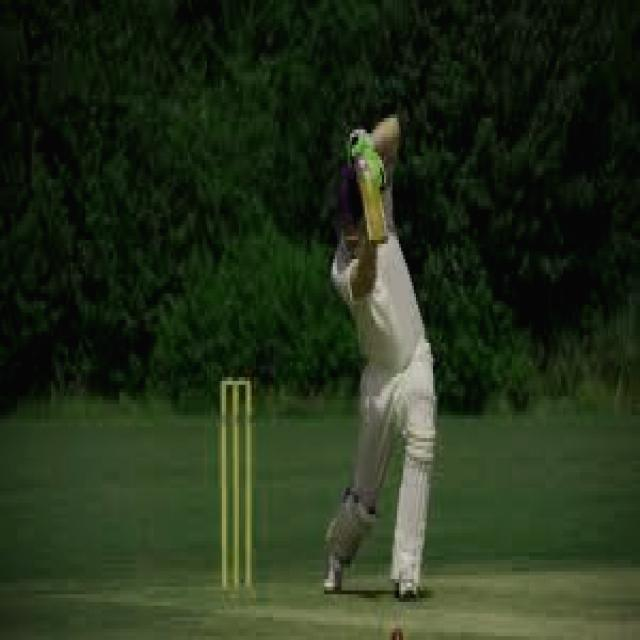bat: (350, 155, 393, 243)
toe: (369, 236, 389, 244)
